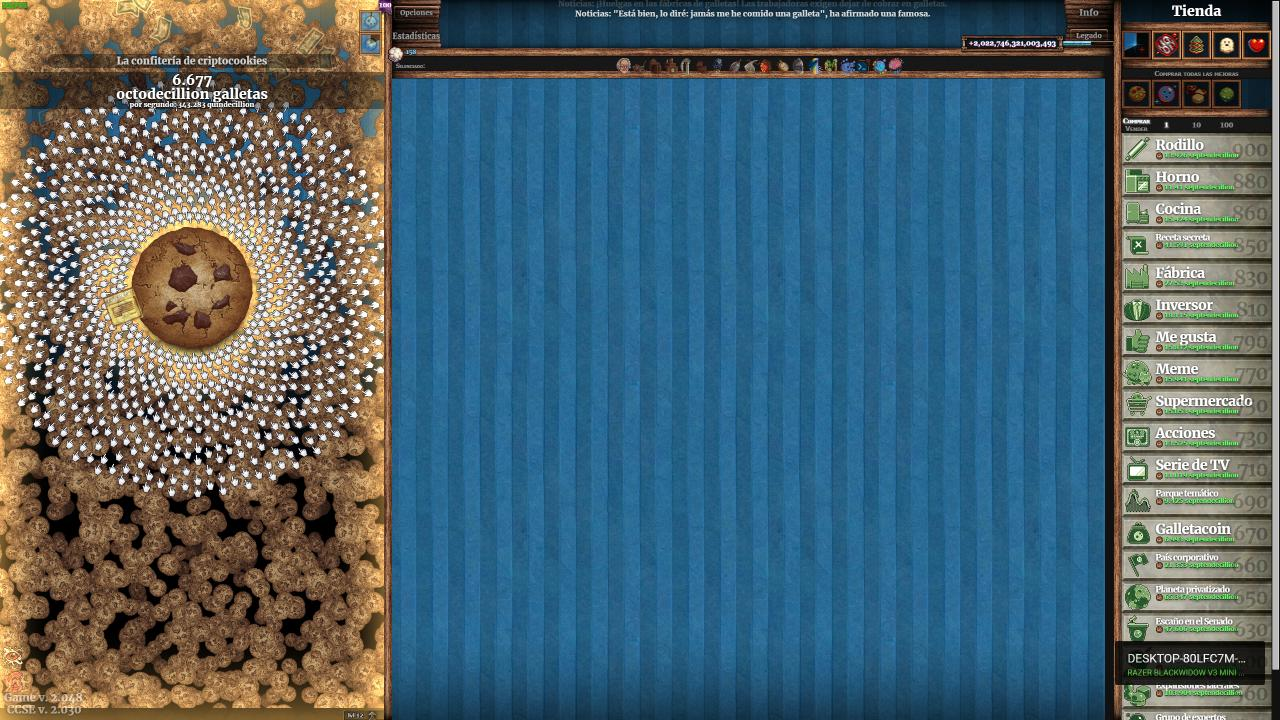GoldenCartridge: (102, 286, 146, 328)
